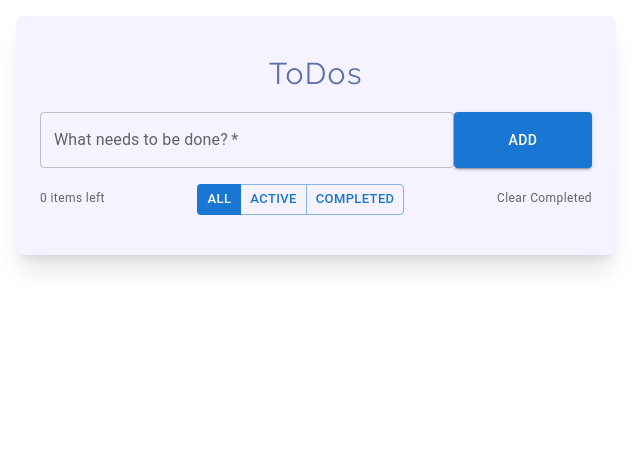
Scenario: App component › adds a new item to the list
Type "Test 1" into the field. click: (247, 140)
box: [40,112,454,168]
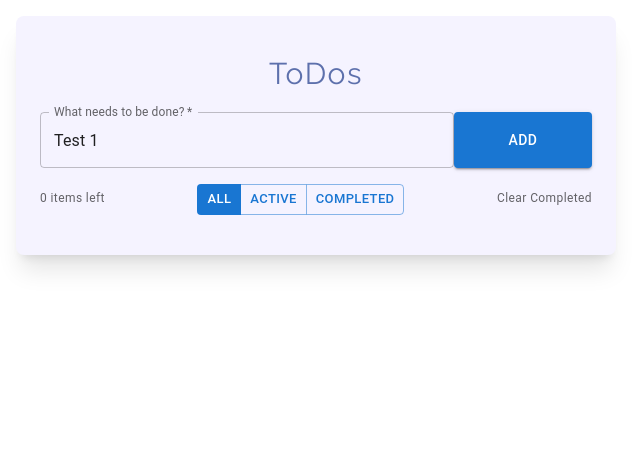
Click the button "Add". click: (523, 140)
box: [454,112,592,168]
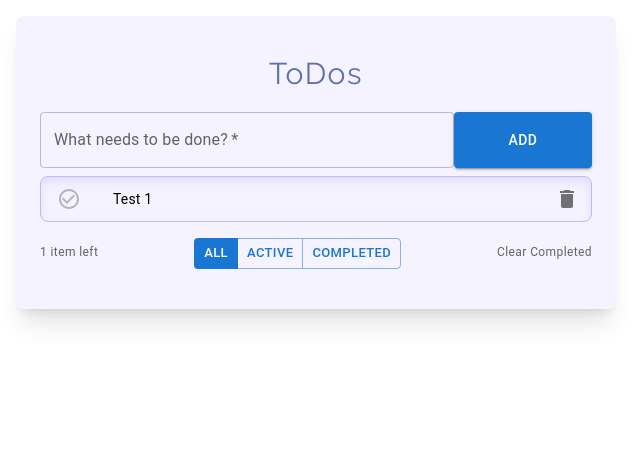
Type "Test 2" into the field. click: (247, 140)
box: [40,112,454,168]
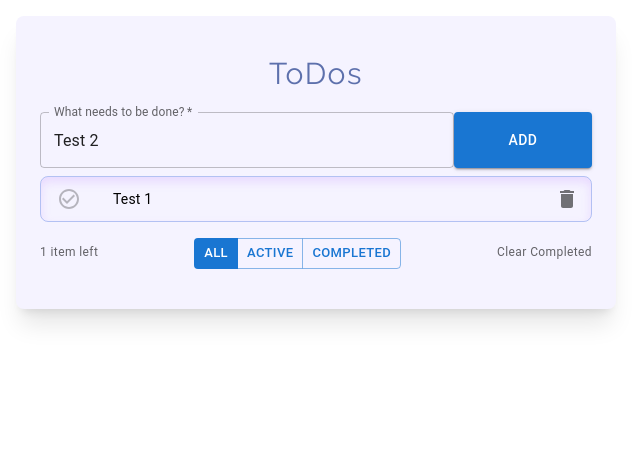
Click the button "Add". click: (523, 140)
box: [454,112,592,168]
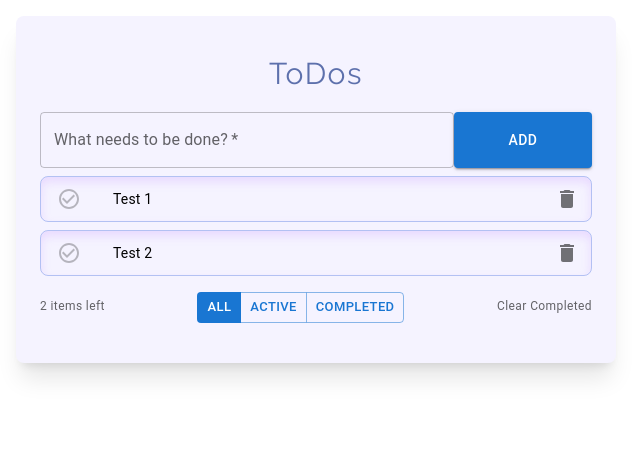
Type "Test 3" into the field. click: (247, 140)
box: [40,112,454,168]
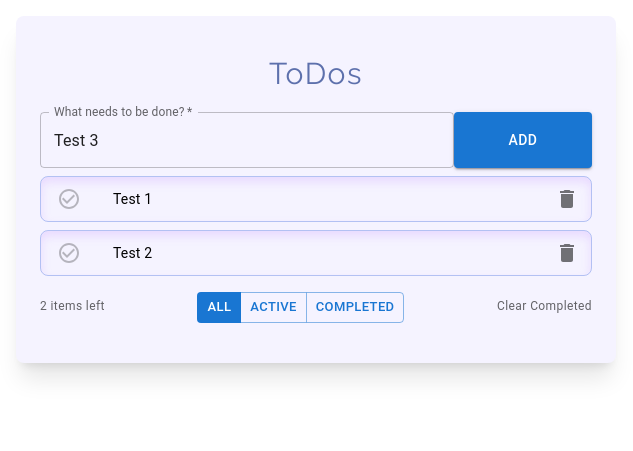
Click the button "Add". click: (523, 140)
box: [454,112,592,168]
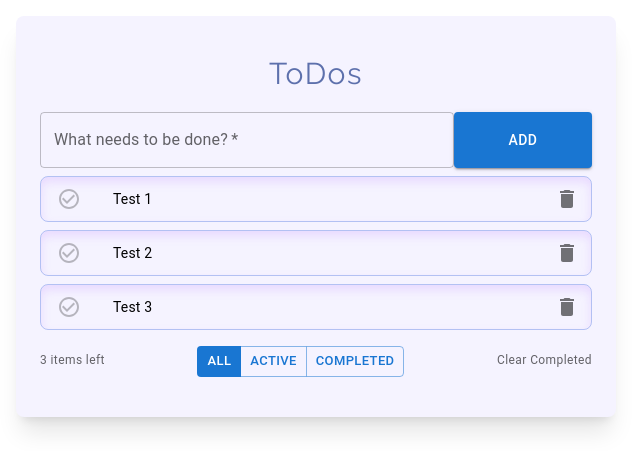
Now the text "Test 1" is shown, box [113,191,152,207]
Now the text "Test 2" is shown, box [113,245,152,261]
Now the number of list items is 3, box [40,176,592,222]; [40,230,592,276]; [40,284,592,330]
